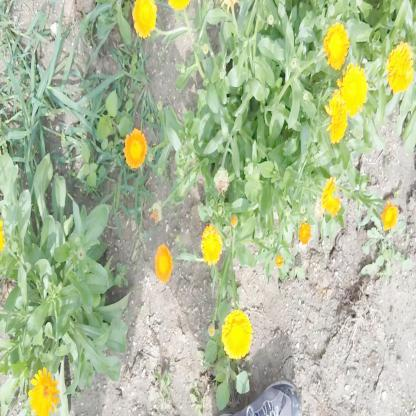marigold: (223, 309, 252, 359), (30, 367, 60, 411), (387, 45, 412, 91), (341, 66, 366, 112), (123, 129, 146, 168), (330, 95, 348, 143), (200, 225, 221, 265), (134, 1, 154, 36), (154, 248, 172, 286), (322, 178, 340, 214)
